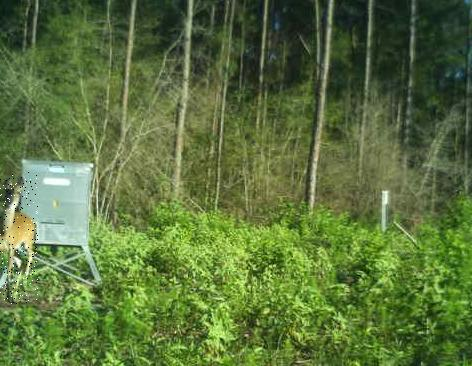Deer: (0, 172, 38, 304)
